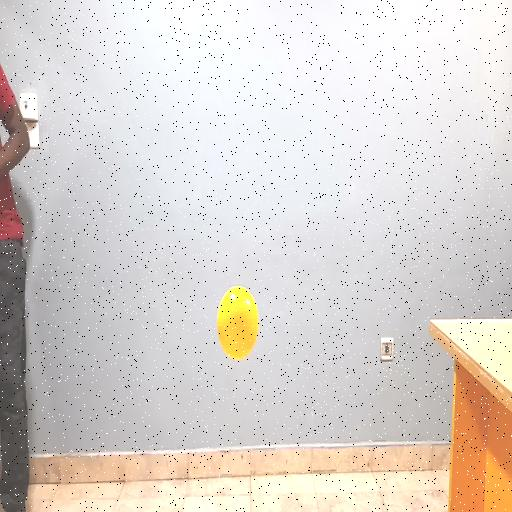plastic-ball: (218, 286, 258, 359)
